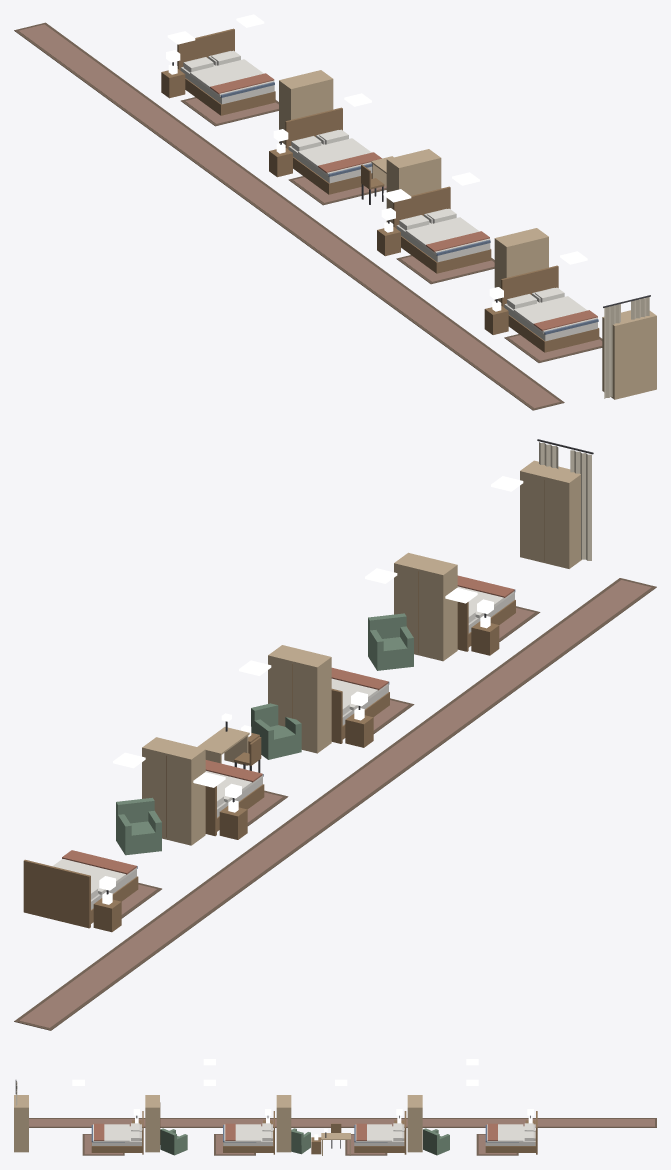
The model's file is fine-s1.glb.
The picture shows the model from 3 angles, top to bottom: view 1: azimuth 30°, elevation 25°; view 2: azimuth 150°, elevation 25°; view 3: azimuth 270°, elevation 25°; orthographic projection. The views are drawn at different scales.
Visible parts, largest first — view 1: soft-s1, dresser.003, bed-frame.003, bed-frame.002, bed-frame.000, bed-frame.001, dresser.002, dresser.000, dresser.001, nightstand.000, nightstand.003, nightstand.001 (+1 smaller); view 2: soft-s1, dresser.003, dresser.002, dresser.000, dresser.001, bed-frame.000, lounge-chair.000, lounge-chair.002, lounge-chair.001, writing-desk.000, bed-frame.002, bed-frame.001 (+5 smaller); view 3: soft-s1, dresser.000, dresser.001, dresser.002, dresser.003, bed-frame.001, bed-frame.000, bed-frame.003, bed-frame.002, lounge-chair.002, lounge-chair.000, lounge-chair.001 (+2 smaller).
Part boxes in pixels (box(x1,y1,x2,y2)): soft-s1: box(14, 22, 650, 410); dresser.003: box(602, 310, 656, 399); bed-frame.003: box(501, 265, 599, 352); bed-frame.002: box(393, 186, 491, 273); bed-frame.000: box(177, 28, 275, 115); bed-frame.001: box(285, 107, 372, 194); dresser.002: box(494, 228, 548, 302); dresser.000: box(279, 70, 333, 144); dresser.001: box(386, 149, 441, 223); nightstand.000: box(161, 63, 185, 98); nightstand.003: box(484, 301, 508, 334); nightstand.001: box(269, 143, 292, 177); soft-s1: box(14, 439, 656, 1030); dresser.003: box(520, 460, 581, 568); dresser.002: box(394, 552, 457, 661); dresser.000: box(142, 737, 205, 845); dresser.001: box(268, 645, 331, 753); bed-frame.000: box(23, 859, 138, 928); lounge-chair.000: box(116, 797, 161, 855); lounge-chair.002: box(368, 613, 413, 670); lounge-chair.001: box(251, 703, 301, 759); writing-desk.000: box(197, 713, 249, 765); bed-frame.002: box(331, 682, 389, 743); bed-frame.001: box(205, 774, 264, 836); soft-s1: box(15, 1080, 656, 1155); dresser.000: box(407, 1095, 422, 1152); dresser.001: box(276, 1095, 291, 1152); dresser.002: box(145, 1095, 160, 1152); dresser.003: box(14, 1095, 28, 1152); bed-frame.001: box(354, 1111, 406, 1154); bed-frame.000: box(485, 1111, 537, 1154); bed-frame.003: box(91, 1111, 143, 1154); bed-frame.002: box(223, 1111, 274, 1154); lounge-chair.002: box(160, 1128, 187, 1155); lounge-chair.000: box(423, 1128, 449, 1155); lounge-chair.001: box(291, 1128, 310, 1154).
Size of the model in its own units: 3.6 by 2.74 by 25.96.
